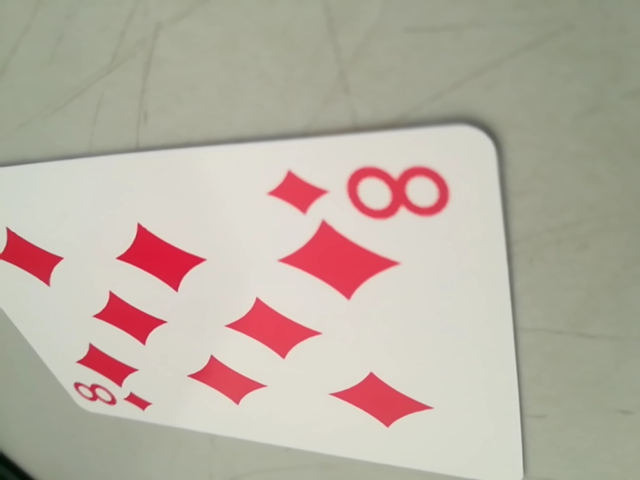fk 8: (272, 153, 465, 232), (70, 376, 151, 415)
